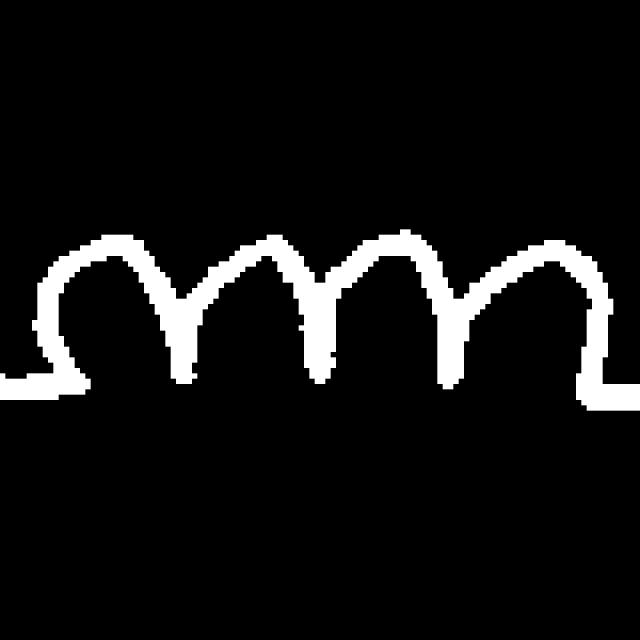inductor: (24, 214, 626, 442)
